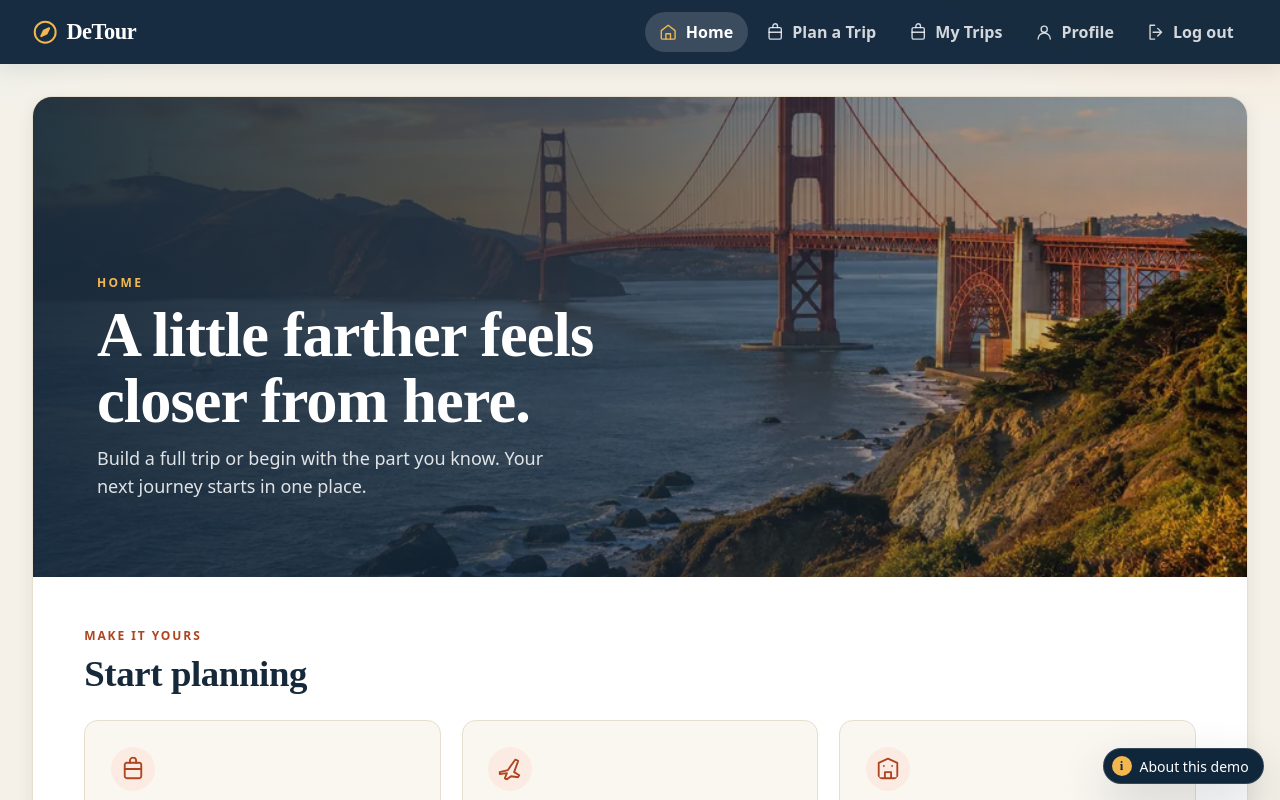
Test case: App identity experience › changes a password only after server success and provides an accessible disclosure
Expected: the heading "Home" is shown, [97,274,143,291]
Step 1. Click the button "Profile" → (1075, 32), box [1021,12,1128,52]
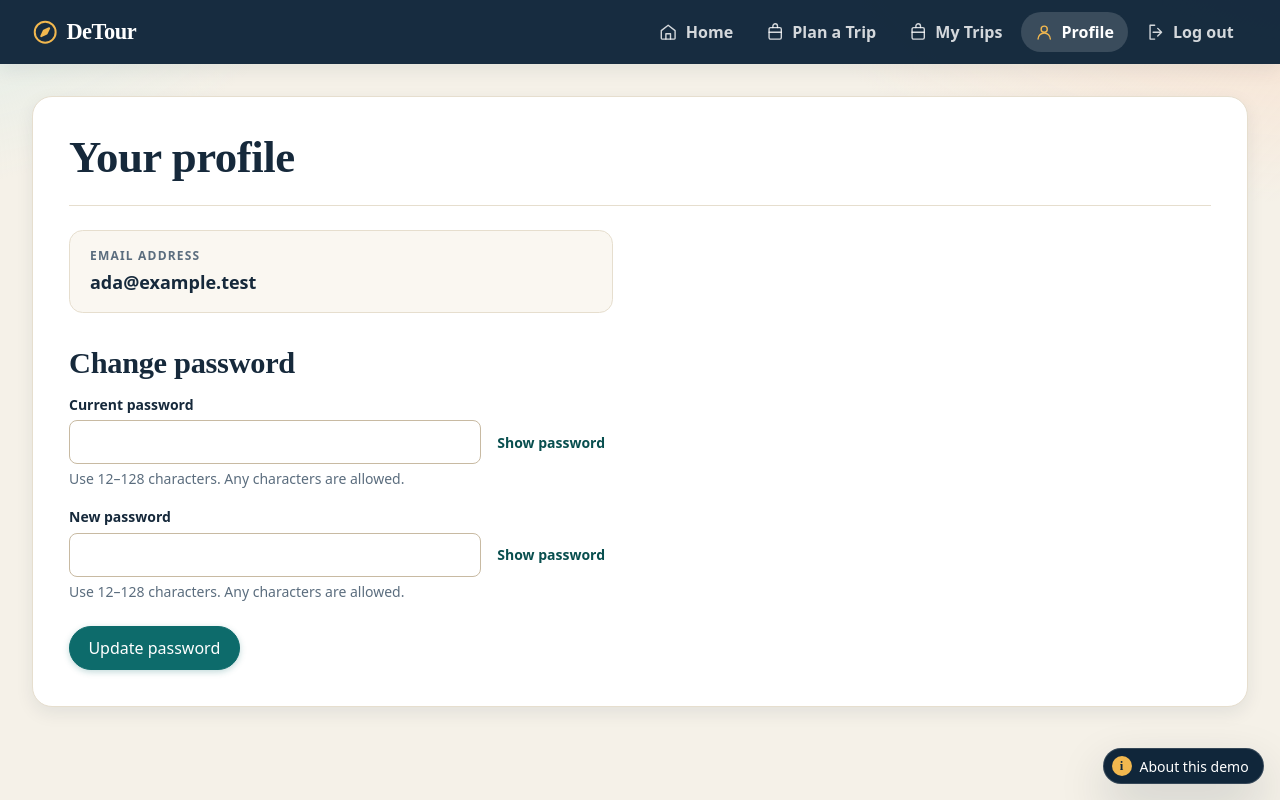
Step 2. Type "aaaaaaaaaaaa" into the password field labelled "Current password" → (275, 442), box [69,420,481,464]
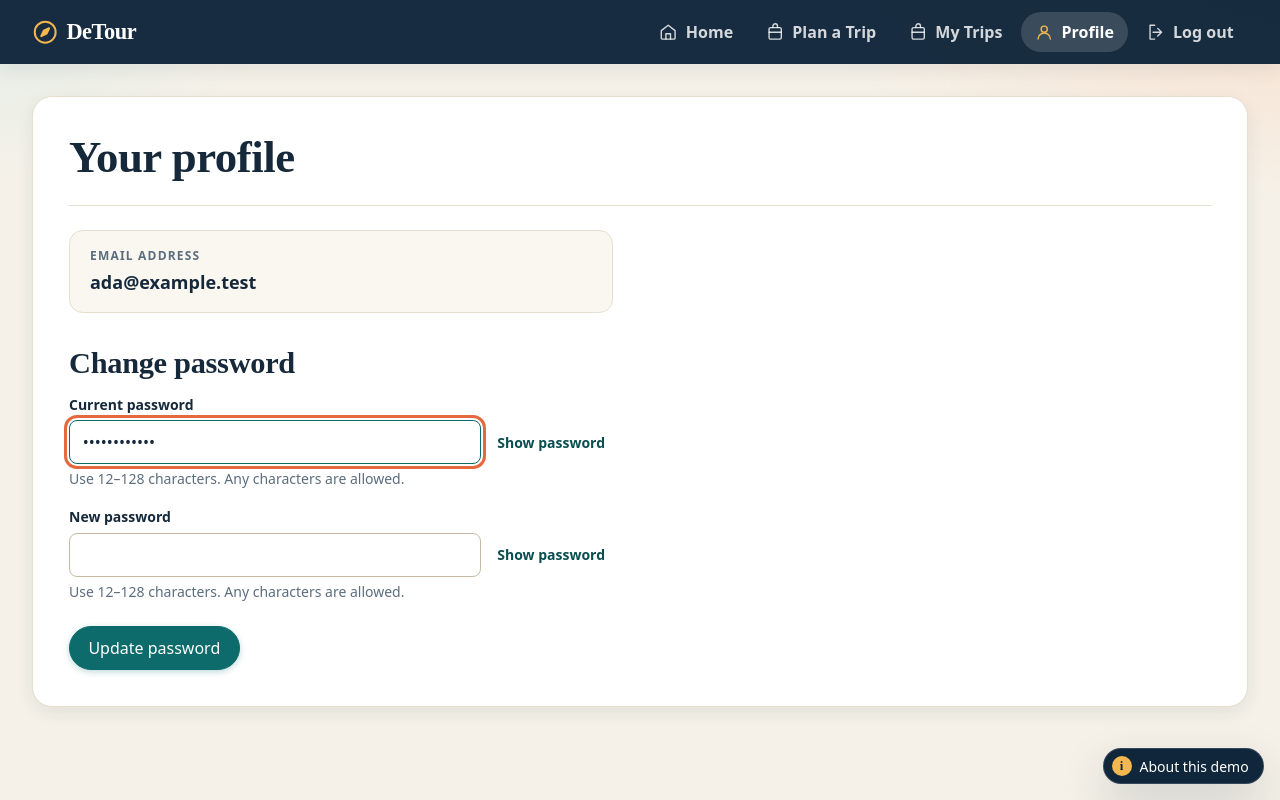
Step 3. Type "bbbbbbbbbbbb" into the password field labelled "New password" → (275, 555), box [69,533,481,577]
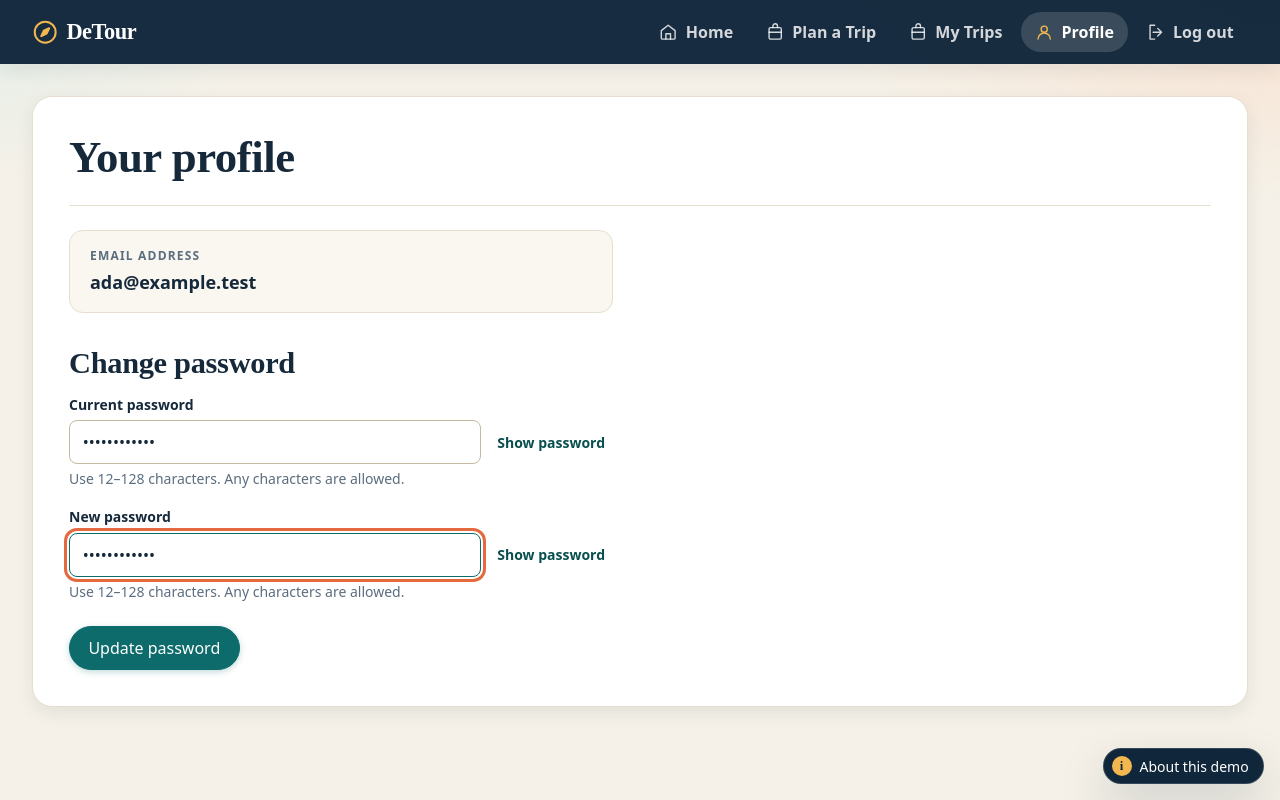
Step 4. Click the button "Update password" → (154, 648), box [69,626,240,670]
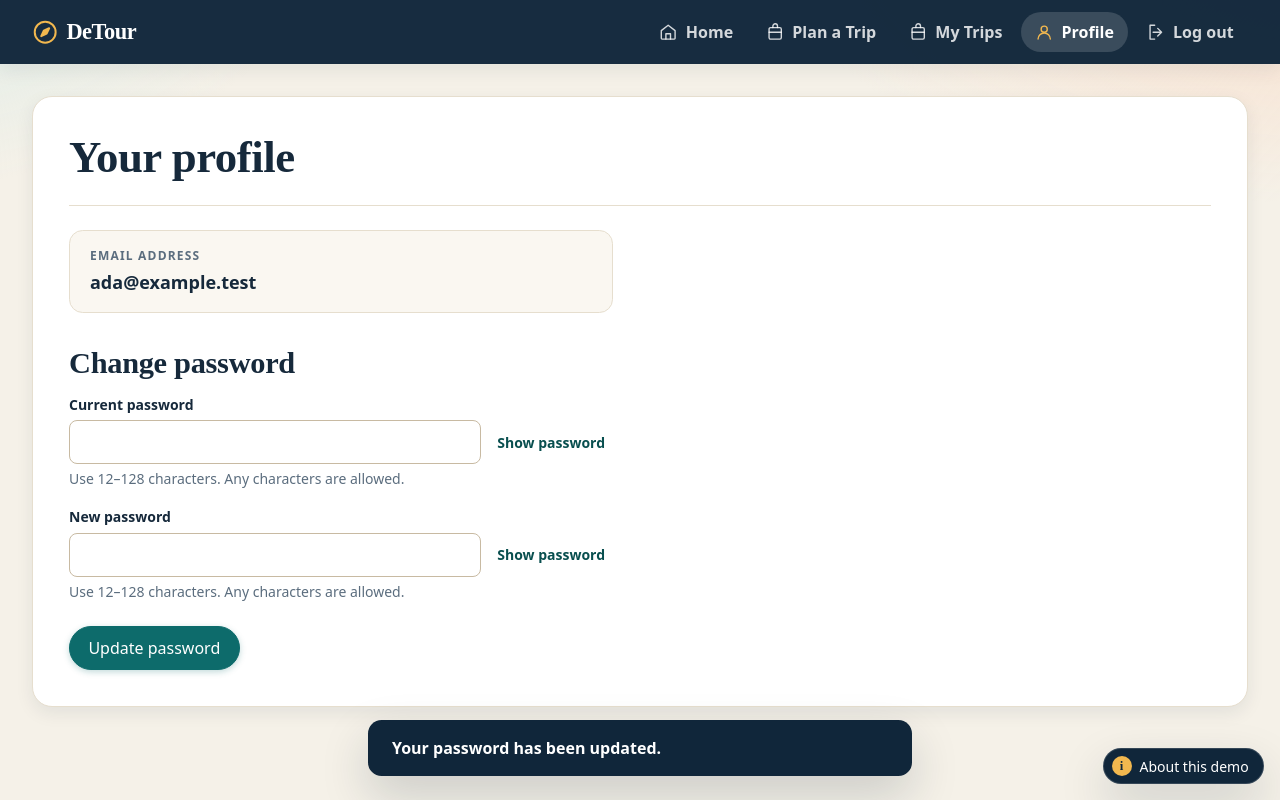
Expected: the text "Your password has been updated." is shown, [368,720,912,776]
Expected: the password field labelled "Current password" is empty, [69,420,481,464]
Step 5. Press Tab
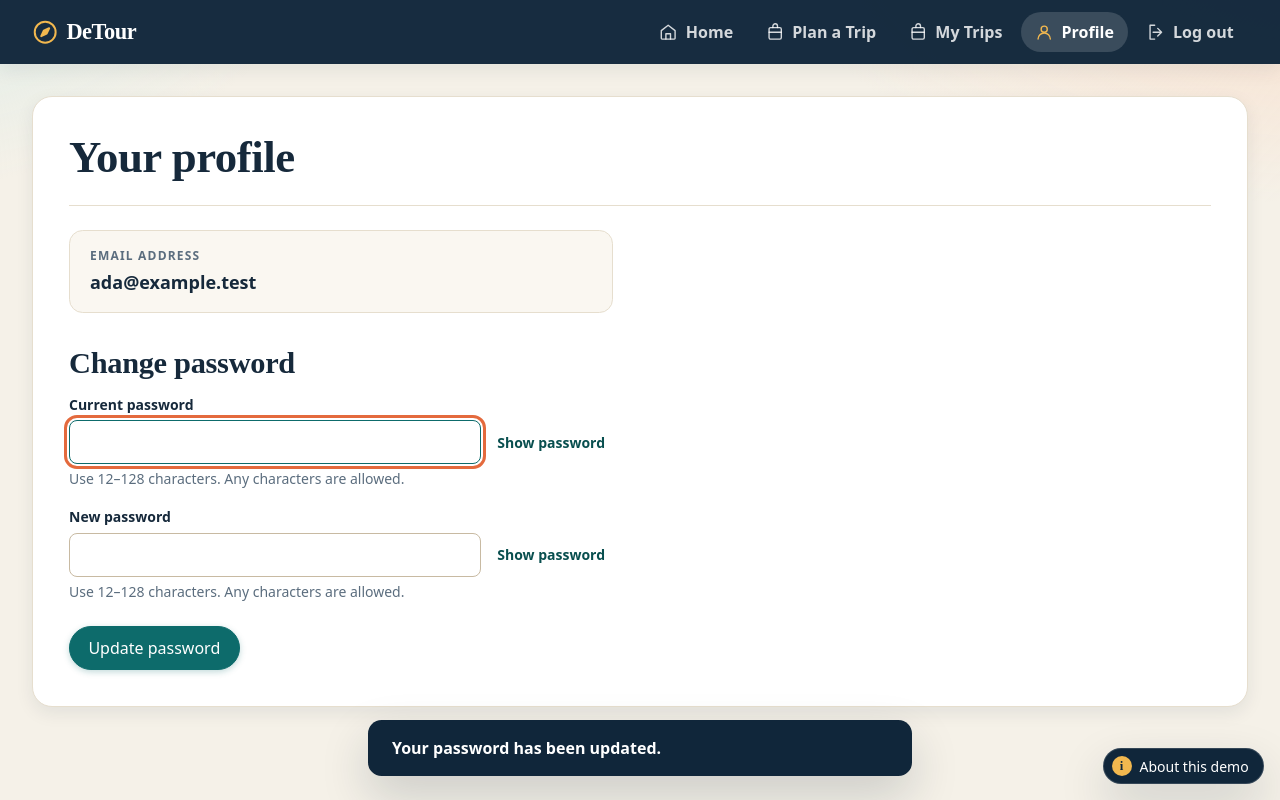
Step 6. Click the button "About this demo" → (1184, 766), box [1103,748,1264,784]
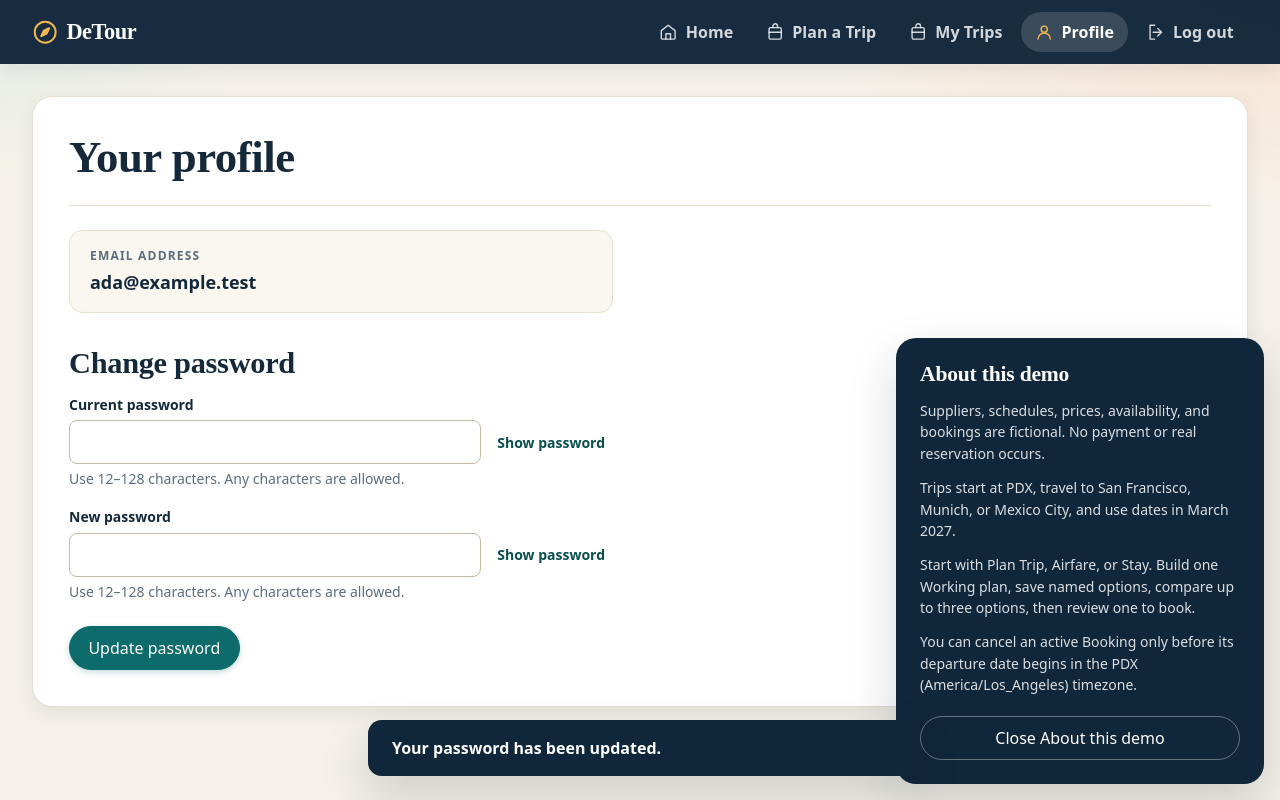
Expected: the text "Suppliers, schedules, prices" is shown, [920,401,1210,463]
